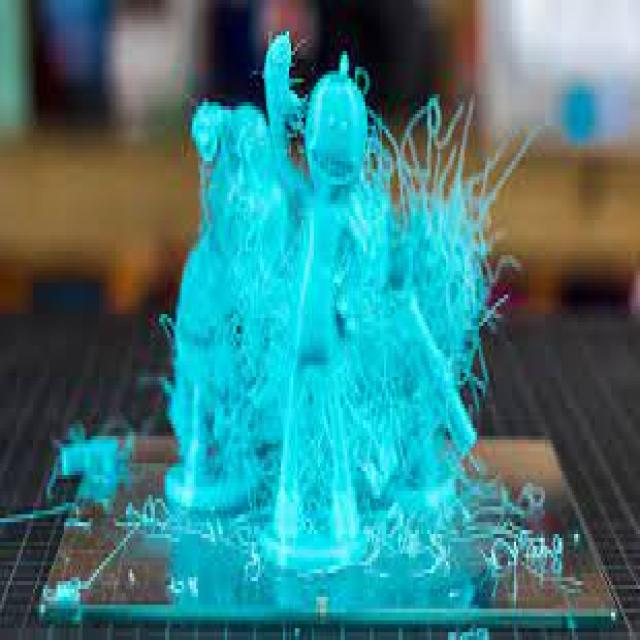spaghetti: (152, 99, 528, 531)
